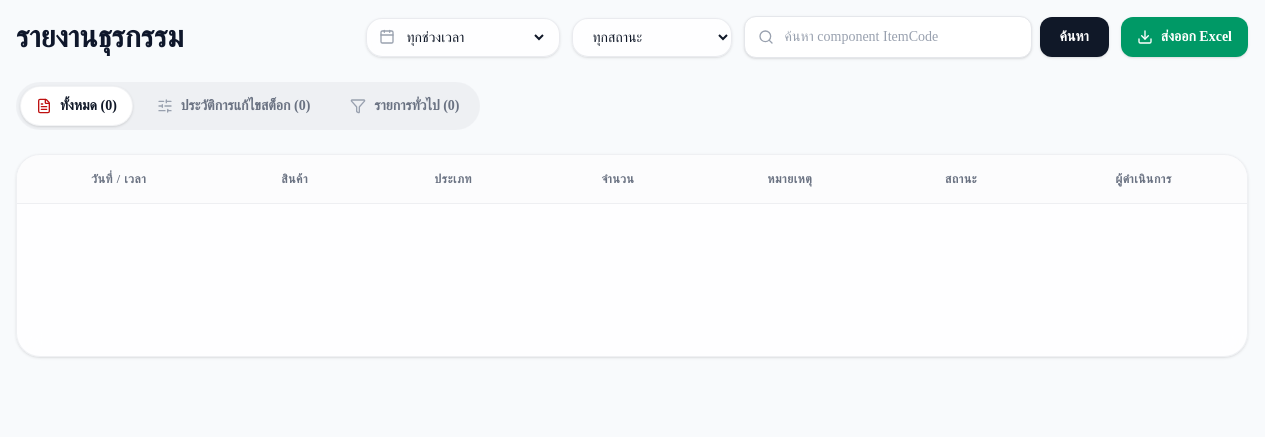
Reports Page — Excel Export UI Integration › 13. Date Range: Warns when Start Date is selected but End Date is missing
Note: Select custom date filter
Select "กำหนดเอง" in the 1st dropdown at (474, 37), box [402, 24, 546, 50]
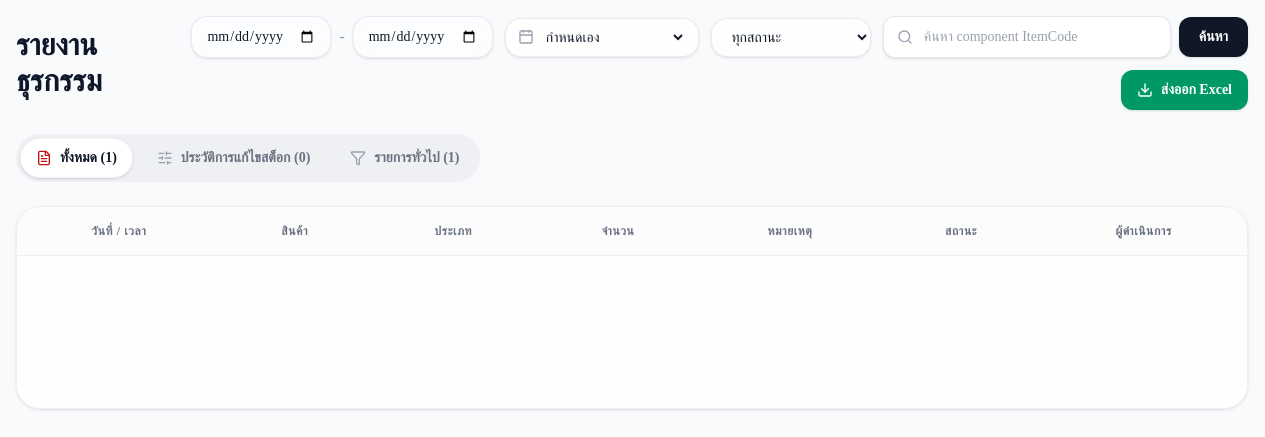
Type "2026-08-01" into the date field named "วันที่เริ่มต้น".
click(261, 37); type("2026-08-01")  # box [191, 16, 331, 58]
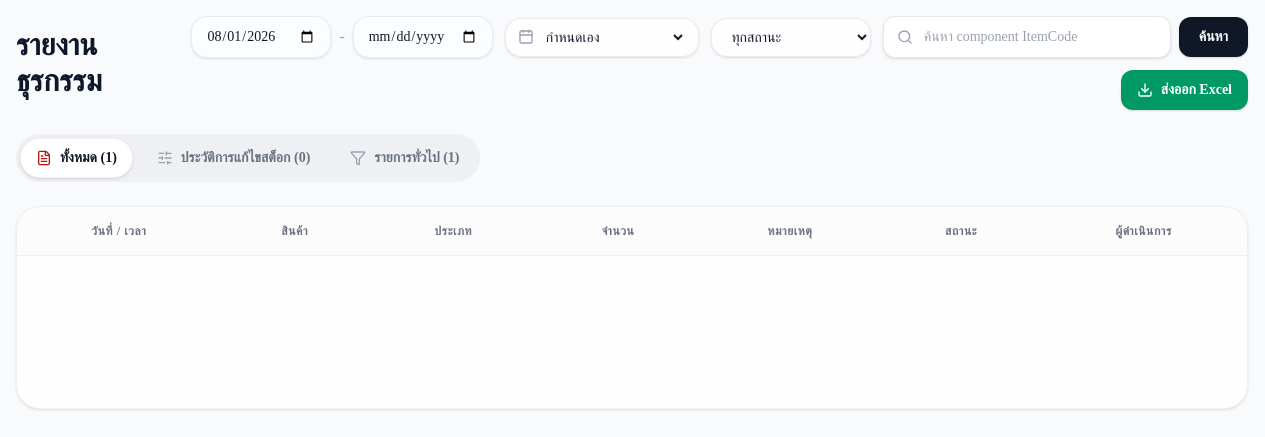
Click the button "ส่งออก Excel".
click(1184, 90)  # box [1121, 70, 1248, 110]
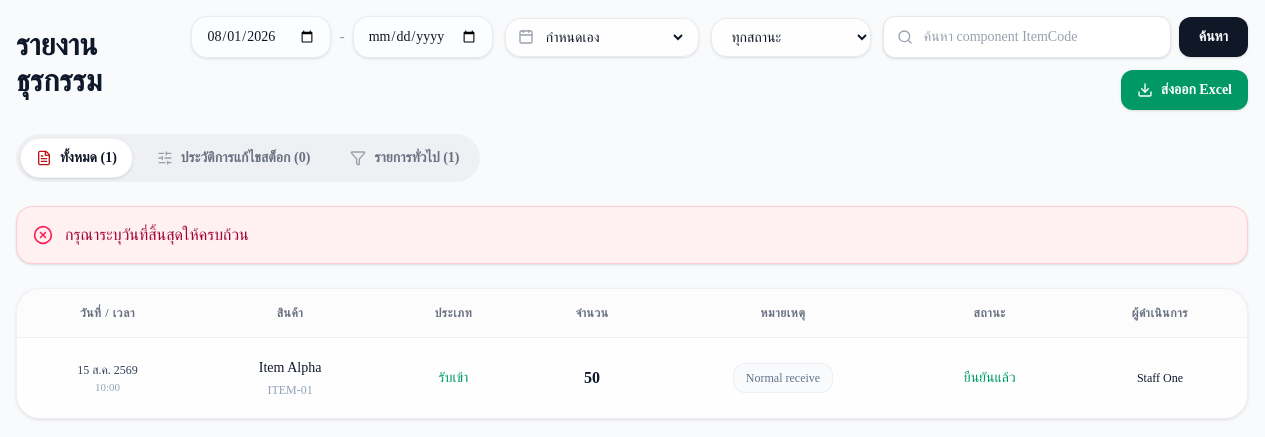
Expected: the text "กรุณาระบุวันที่สิ้นสุดให้ครบถ้วน" is shown, [65, 223, 249, 247]
